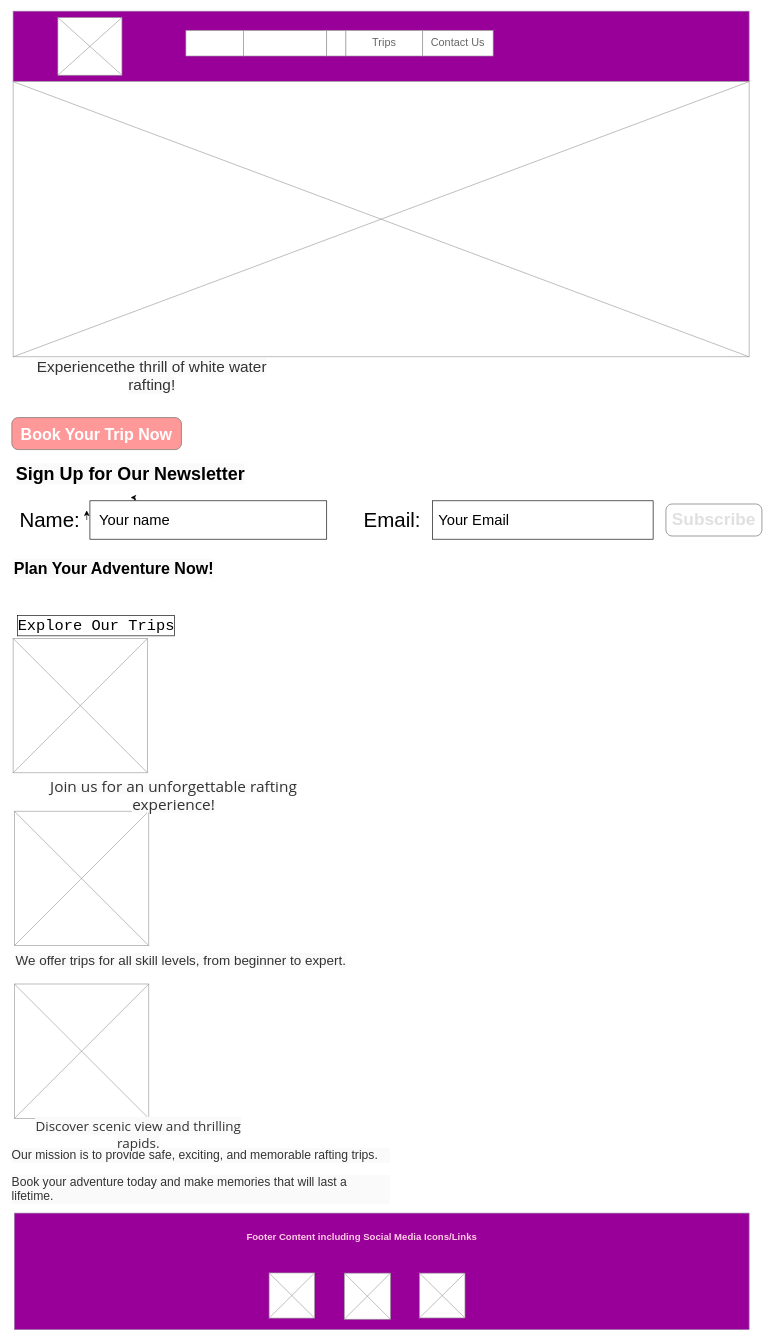
Some shapes in this 773 by 1341 pixel diagram are drawn without their labels. Here are the shapes that lost their labels. From the top down, the centre of each, then its label:
At (x=214, y=43): "Home".
At (x=285, y=43): "About Us".
At (x=380, y=219): "Image that includes heading message".
